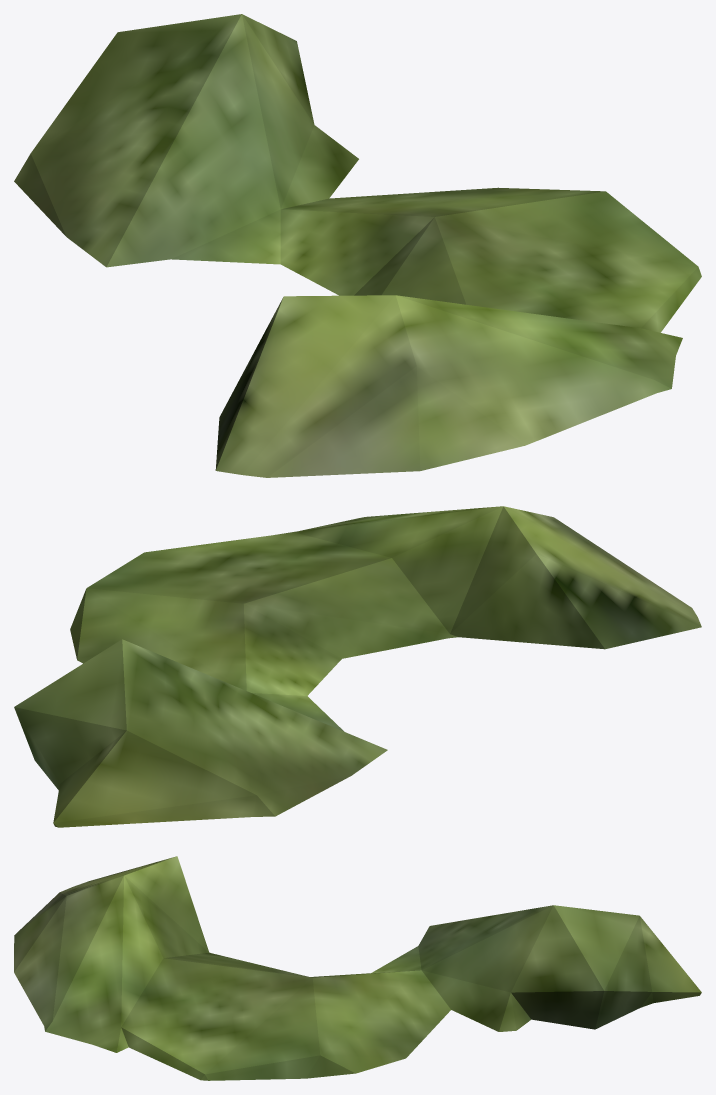
The picture shows the model from 3 angles, top to bottom: view 1: azimuth 30°, elevation 25°; view 2: azimuth 150°, elevation 25°; view 3: azimuth 270°, elevation 25°; orthographic projection. The views are drawn at different scales.
Bounding box in the file's own units: 3.96 × 0.9149 × 5.77.
1 material, 1 textured.
